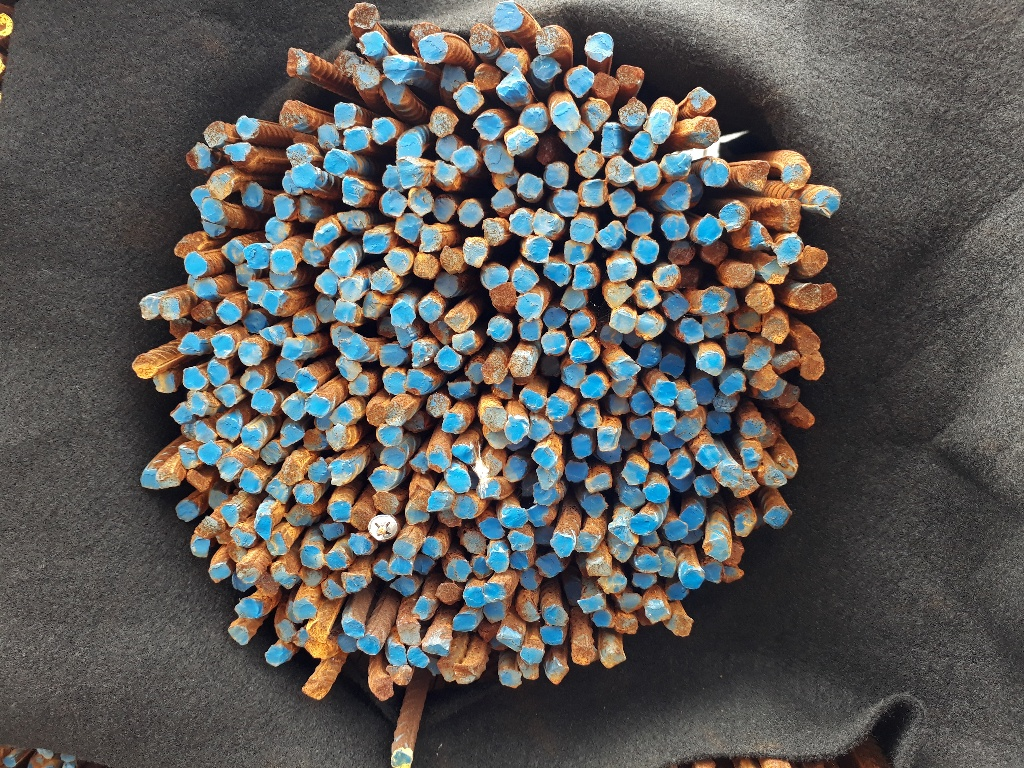dipstick: (495, 70, 535, 105), (331, 324, 368, 360), (736, 159, 772, 194), (660, 181, 695, 214), (691, 212, 726, 244), (698, 346, 729, 380), (797, 242, 827, 277), (559, 121, 594, 151), (778, 160, 810, 192), (790, 324, 823, 355), (722, 261, 759, 288), (491, 3, 525, 32), (551, 100, 582, 131), (773, 236, 803, 268), (584, 31, 614, 62), (420, 32, 451, 62), (469, 21, 499, 52), (618, 98, 649, 128), (744, 285, 775, 315), (718, 201, 750, 230), (741, 342, 773, 371), (601, 279, 633, 308), (583, 98, 611, 131), (394, 211, 422, 244), (514, 105, 549, 131), (694, 286, 729, 312), (631, 236, 661, 266), (405, 495, 435, 525), (381, 54, 412, 83), (578, 370, 607, 401), (216, 411, 244, 443), (532, 211, 565, 238), (564, 239, 597, 266), (745, 218, 771, 252), (617, 63, 647, 92), (691, 119, 721, 148), (791, 282, 821, 311), (702, 533, 731, 563), (473, 113, 503, 142), (607, 255, 636, 285), (534, 550, 565, 578), (577, 148, 605, 179), (607, 187, 638, 215), (446, 300, 474, 331), (490, 281, 518, 312), (433, 132, 466, 158), (483, 146, 516, 172), (688, 85, 717, 114), (361, 292, 390, 321), (566, 67, 594, 97), (627, 131, 657, 159), (530, 482, 565, 506), (433, 345, 463, 373), (568, 430, 595, 461), (652, 264, 684, 290), (799, 353, 827, 382), (263, 216, 292, 244), (472, 61, 500, 90), (666, 450, 694, 479), (429, 108, 458, 136), (617, 480, 645, 509), (553, 190, 582, 218), (369, 464, 398, 492), (503, 415, 531, 444), (332, 49, 362, 76), (495, 45, 525, 72), (676, 413, 706, 440), (278, 335, 308, 362), (637, 313, 664, 343), (407, 189, 437, 216), (335, 355, 365, 382), (598, 567, 629, 593), (659, 350, 684, 382), (505, 129, 538, 153), (677, 503, 705, 531), (607, 155, 635, 183), (700, 160, 729, 187), (322, 146, 349, 175), (280, 394, 307, 423), (490, 370, 517, 399), (454, 87, 484, 113), (371, 268, 401, 294), (418, 223, 444, 253), (571, 263, 601, 289), (569, 338, 599, 364), (567, 311, 598, 336), (759, 260, 791, 284), (373, 422, 405, 446), (378, 343, 410, 367), (339, 209, 372, 232), (186, 141, 213, 169), (661, 211, 688, 239), (383, 187, 410, 215), (625, 206, 653, 233), (634, 280, 661, 308), (388, 300, 416, 327), (512, 264, 540, 291), (762, 317, 791, 343), (718, 369, 747, 395), (298, 545, 327, 571), (239, 339, 265, 368), (525, 503, 554, 529), (451, 494, 480, 520), (405, 370, 434, 396), (203, 118, 228, 148), (631, 549, 661, 574), (784, 406, 815, 430), (342, 176, 366, 207), (300, 237, 327, 264), (663, 293, 690, 320), (678, 316, 705, 343), (652, 380, 679, 407), (644, 439, 671, 466), (621, 459, 648, 486), (482, 218, 509, 245), (482, 262, 509, 289), (763, 504, 791, 530), (285, 51, 311, 79), (643, 118, 671, 144), (289, 162, 317, 188), (441, 63, 467, 91), (396, 158, 424, 184), (324, 422, 350, 450), (333, 298, 359, 326), (464, 240, 490, 268), (565, 459, 593, 485), (175, 233, 204, 258), (569, 217, 598, 242), (353, 65, 383, 89), (356, 32, 386, 56), (656, 549, 680, 579), (724, 331, 754, 355), (516, 175, 546, 199), (347, 4, 379, 26), (409, 22, 441, 44), (813, 191, 840, 217), (693, 472, 719, 499), (370, 117, 396, 144), (703, 311, 729, 338), (586, 551, 613, 577), (550, 531, 576, 558), (274, 358, 301, 384), (458, 200, 485, 226), (373, 491, 399, 518), (562, 360, 588, 387), (540, 330, 567, 356), (546, 159, 571, 187), (611, 306, 636, 334), (369, 515, 397, 540), (542, 302, 567, 330), (520, 387, 548, 412), (499, 504, 528, 528), (577, 402, 606, 426), (427, 488, 456, 512), (476, 476, 505, 500), (475, 453, 504, 477), (776, 450, 799, 480), (600, 123, 622, 154), (543, 659, 569, 685), (280, 101, 306, 127), (197, 440, 223, 466), (221, 239, 247, 265), (303, 428, 329, 454), (396, 133, 422, 159), (510, 210, 536, 236), (210, 331, 235, 358), (243, 243, 268, 270), (343, 126, 370, 151), (633, 163, 660, 188), (265, 477, 290, 504), (251, 389, 276, 416), (329, 458, 354, 485), (580, 178, 607, 203), (676, 413, 701, 440), (546, 394, 571, 421), (435, 271, 462, 296), (236, 594, 264, 618), (498, 626, 526, 650), (501, 455, 529, 479), (486, 317, 514, 341), (442, 558, 471, 581), (362, 230, 391, 253), (229, 527, 259, 549), (384, 250, 414, 272), (442, 468, 472, 490), (388, 574, 419, 595), (740, 416, 766, 441), (396, 621, 422, 646), (188, 467, 214, 492), (200, 196, 225, 222), (217, 456, 242, 482), (240, 183, 265, 209), (451, 145, 476, 171), (328, 247, 353, 273), (338, 274, 364, 299), (382, 368, 407, 394), (524, 236, 550, 261), (452, 438, 478, 463), (480, 406, 506, 431), (535, 29, 562, 53), (531, 56, 558, 80), (663, 519, 690, 543), (702, 239, 729, 263), (393, 536, 420, 560), (380, 164, 403, 192), (582, 494, 610, 517), (592, 74, 621, 96), (269, 195, 298, 217), (694, 375, 716, 404), (750, 367, 780, 388), (192, 417, 217, 442), (214, 383, 239, 408), (206, 361, 231, 386), (217, 299, 242, 324), (637, 343, 662, 368), (427, 393, 452, 418), (781, 202, 805, 228), (184, 389, 208, 415), (184, 252, 208, 278), (437, 581, 461, 607), (286, 504, 312, 528), (600, 223, 624, 249), (435, 196, 459, 222), (479, 517, 505, 541), (565, 287, 591, 311), (418, 296, 442, 322), (441, 246, 465, 272), (543, 262, 569, 286), (599, 645, 626, 668), (388, 663, 415, 686), (131, 357, 158, 380), (538, 624, 565, 647), (269, 249, 296, 272), (312, 220, 339, 243), (676, 384, 699, 411), (316, 296, 339, 323), (414, 254, 441, 277), (665, 615, 693, 637), (615, 592, 643, 614), (422, 635, 450, 657), (308, 458, 330, 486), (771, 352, 800, 373), (290, 313, 319, 334), (447, 379, 476, 400), (371, 676, 396, 700), (303, 639, 333, 659), (272, 563, 297, 587), (461, 584, 486, 608), (246, 278, 270, 303), (316, 124, 340, 149), (239, 426, 263, 451), (241, 368, 265, 393), (294, 370, 319, 394), (262, 643, 288, 666), (178, 333, 204, 356), (475, 619, 501, 642), (261, 439, 284, 465), (312, 269, 338, 292), (431, 159, 458, 181), (630, 391, 657, 413), (596, 424, 618, 451), (484, 356, 506, 383), (383, 86, 414, 105), (677, 569, 705, 590), (223, 141, 252, 161), (378, 444, 407, 464), (155, 465, 179, 489), (191, 300, 215, 324), (610, 393, 634, 417), (331, 402, 355, 426), (427, 447, 451, 471), (509, 353, 533, 377), (517, 317, 541, 341), (643, 600, 668, 623), (356, 632, 381, 655), (705, 411, 730, 434), (263, 324, 288, 347), (652, 409, 675, 434), (366, 401, 389, 426), (734, 475, 760, 497), (384, 641, 410, 663), (157, 296, 183, 318), (208, 173, 234, 195), (584, 470, 610, 492), (535, 464, 561, 486), (254, 513, 275, 540), (540, 605, 568, 625), (479, 602, 507, 622), (333, 102, 356, 126), (576, 532, 600, 555), (631, 415, 654, 439), (424, 537, 448, 560), (696, 445, 721, 467), (282, 170, 304, 195), (329, 501, 354, 523), (395, 324, 420, 346), (498, 667, 524, 688), (474, 553, 495, 579), (322, 551, 348, 572), (241, 311, 267, 332), (452, 334, 478, 355), (431, 317, 452, 343), (292, 598, 319, 618), (630, 569, 657, 589), (577, 593, 607, 611), (348, 533, 375, 553), (193, 516, 221, 535), (668, 242, 696, 261), (531, 449, 559, 468), (778, 385, 801, 408), (227, 623, 250, 646), (195, 276, 218, 299), (765, 467, 789, 489), (614, 614, 638, 636), (343, 618, 365, 642), (302, 679, 326, 701), (207, 563, 231, 585), (177, 445, 199, 469), (171, 400, 193, 424), (234, 264, 256, 288), (492, 189, 516, 211), (352, 506, 374, 530), (442, 412, 466, 434), (468, 361, 490, 385), (406, 647, 431, 668), (235, 564, 260, 585), (181, 366, 206, 387), (280, 424, 305, 445), (493, 170, 518, 191), (615, 360, 640, 381), (319, 580, 345, 600), (266, 531, 286, 557), (631, 514, 657, 534), (483, 428, 509, 448), (453, 663, 476, 685), (488, 547, 510, 570), (518, 568, 541, 590), (512, 547, 534, 570), (601, 325, 624, 347), (453, 610, 477, 631), (342, 572, 367, 592), (482, 580, 507, 600), (370, 560, 395, 580), (295, 197, 315, 222), (644, 483, 669, 503), (385, 400, 405, 425), (259, 572, 278, 598), (199, 219, 226, 237), (437, 660, 460, 681), (413, 598, 436, 619), (191, 537, 212, 560), (154, 371, 177, 392), (236, 117, 259, 138), (263, 292, 286, 313), (465, 530, 486, 553), (516, 600, 540, 620), (169, 318, 194, 337), (517, 645, 543, 663), (741, 447, 762, 469), (701, 562, 722, 584), (139, 299, 160, 321), (295, 484, 317, 505), (409, 451, 431, 472), (759, 427, 779, 450), (734, 515, 754, 538), (176, 499, 199, 519), (599, 444, 622, 464), (270, 271, 295, 289), (669, 473, 695, 490), (232, 572, 253, 593), (140, 469, 161, 490), (178, 420, 199, 441), (591, 607, 612, 628), (307, 396, 328, 417), (405, 411, 426, 432), (720, 466, 742, 486), (620, 430, 640, 452), (721, 566, 745, 584), (190, 186, 214, 204), (320, 521, 345, 538), (551, 416, 576, 433), (414, 553, 435, 573), (665, 583, 689, 600), (390, 555, 414, 572), (713, 396, 740, 411), (761, 381, 786, 397), (207, 489, 228, 508), (285, 145, 307, 163), (391, 749, 414, 766), (640, 530, 663, 547), (337, 633, 357, 652), (277, 618, 294, 640), (661, 429, 683, 446), (573, 648, 596, 664), (725, 544, 744, 563), (820, 285, 836, 307), (521, 662, 540, 680), (286, 603, 302, 624), (308, 622, 329, 637), (725, 289, 740, 310), (682, 529, 702, 544), (427, 653, 440, 676), (186, 275, 197, 287)
